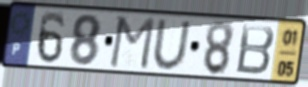6: (37, 10, 67, 66)
8: (66, 12, 103, 68), (201, 18, 235, 78)
B: (234, 23, 277, 78)
M: (107, 15, 157, 72)
U: (151, 18, 193, 72)
